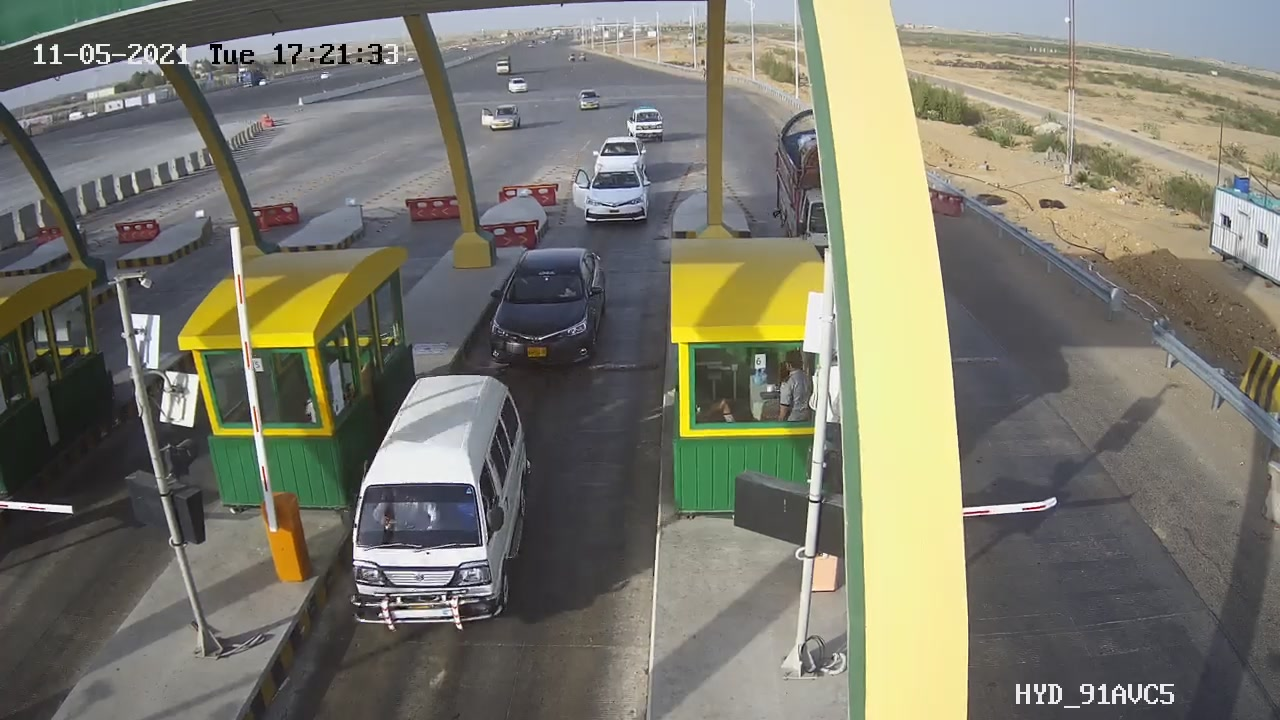F1: (329, 360, 553, 648), (476, 234, 622, 381)
